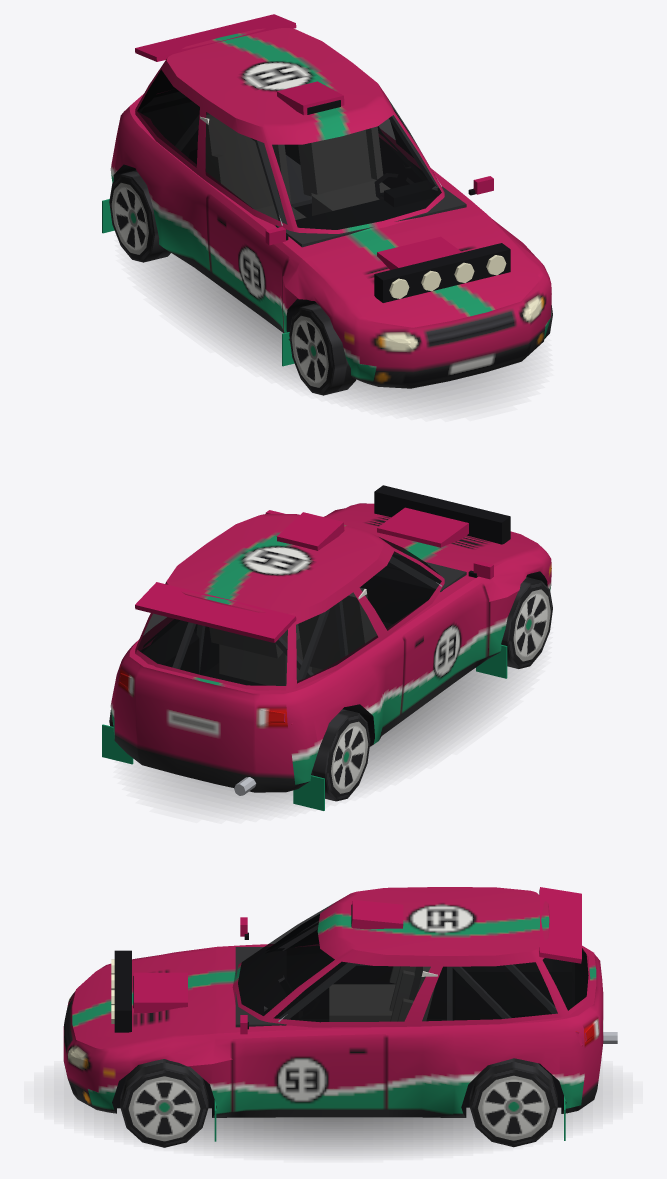
Rendered from turmalina.glb.
3 renders of one model, top to bottom at view 1: azimuth 30°, elevation 25°; view 2: azimuth 150°, elevation 25°; view 3: azimuth 270°, elevation 25°, orthographic. The views are drawn at different scales.
Parts seen in each view (by area): view 1: Carroceria, Interior, Capo_malha, Porta_D_malha, Sombra, Roda_DD, Roda_TD, Tampa_malha, Porta_E_malha, Farol; view 2: Carroceria, Tampa_malha, Interior, Porta_D_malha, Sombra, Capo_malha, Roda_TD, Roda_DD, Lanterna; view 3: Carroceria, Interior, Porta_E_malha, Sombra, Capo_malha, Roda_TE, Roda_DE, Tampa_malha, Porta_D_malha.
Boxes of the visible parts, x1,y1,x2,y2 form: Carroceria: (102,28,551,388); Interior: (138,92,466,247); Capo_malha: (309,215,539,327); Porta_D_malha: (207,118,293,330); Sombra: (145,253,527,407); Roda_DD: (289,303,356,395); Roda_TD: (109,170,170,262); Tampa_malha: (135,14,296,109); Porta_E_malha: (378,84,493,195); Farol: (378,298,544,350); Carroceria: (102,503,551,810); Tampa_malha: (135,582,296,771); Interior: (140,554,466,685); Porta_D_malha: (377,544,493,713); Sombra: (142,667,520,809); Capo_malha: (328,485,539,567); Roda_TD: (311,709,370,801); Roda_DD: (501,577,552,668); Lanterna: (117,665,293,725); Carroceria: (63,887,617,1141); Interior: (235,921,587,1027); Porta_E_malha: (232,949,385,1111); Sombra: (64,1079,602,1153); Capo_malha: (78,949,215,1048); Roda_TE: (469,1058,557,1147); Roda_DE: (120,1059,208,1147); Tampa_malha: (537,887,603,1078); Porta_D_malha: (240,914,319,949).
Bounding box in the file's own units: 2.41 × 1.45 × 4.5.
Materials: 14 (5 with a texture image).
